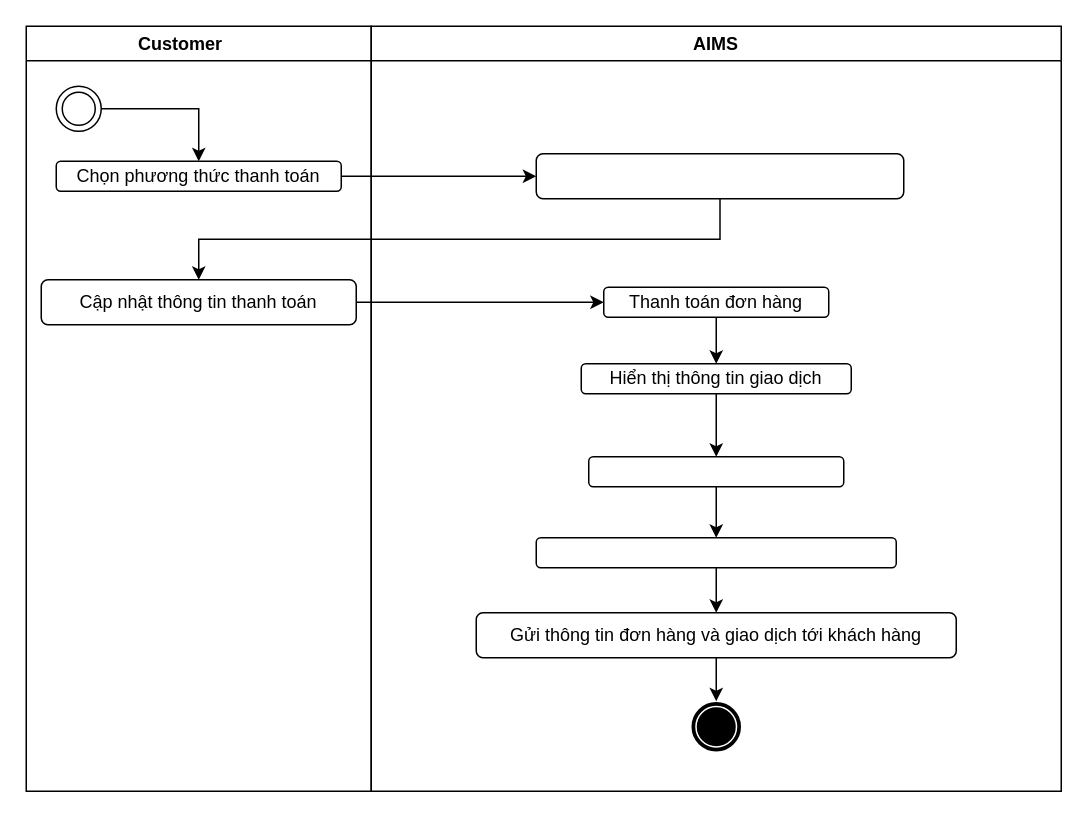
The diagram is 1088 pixels wide and 818 high, and some of its shapes have lost their labels. The box of each missing label's shape, as (x1, y1, x2, y2) in pixels:
Ghi lại thông tin giao dịch: (587, 455, 844, 487)
Hiển thị màn hình thông tin thanh toán: (535, 152, 904, 199)
Đưa đơn hàng vào trạng thái chờ xủ lí: (535, 536, 896, 568)
